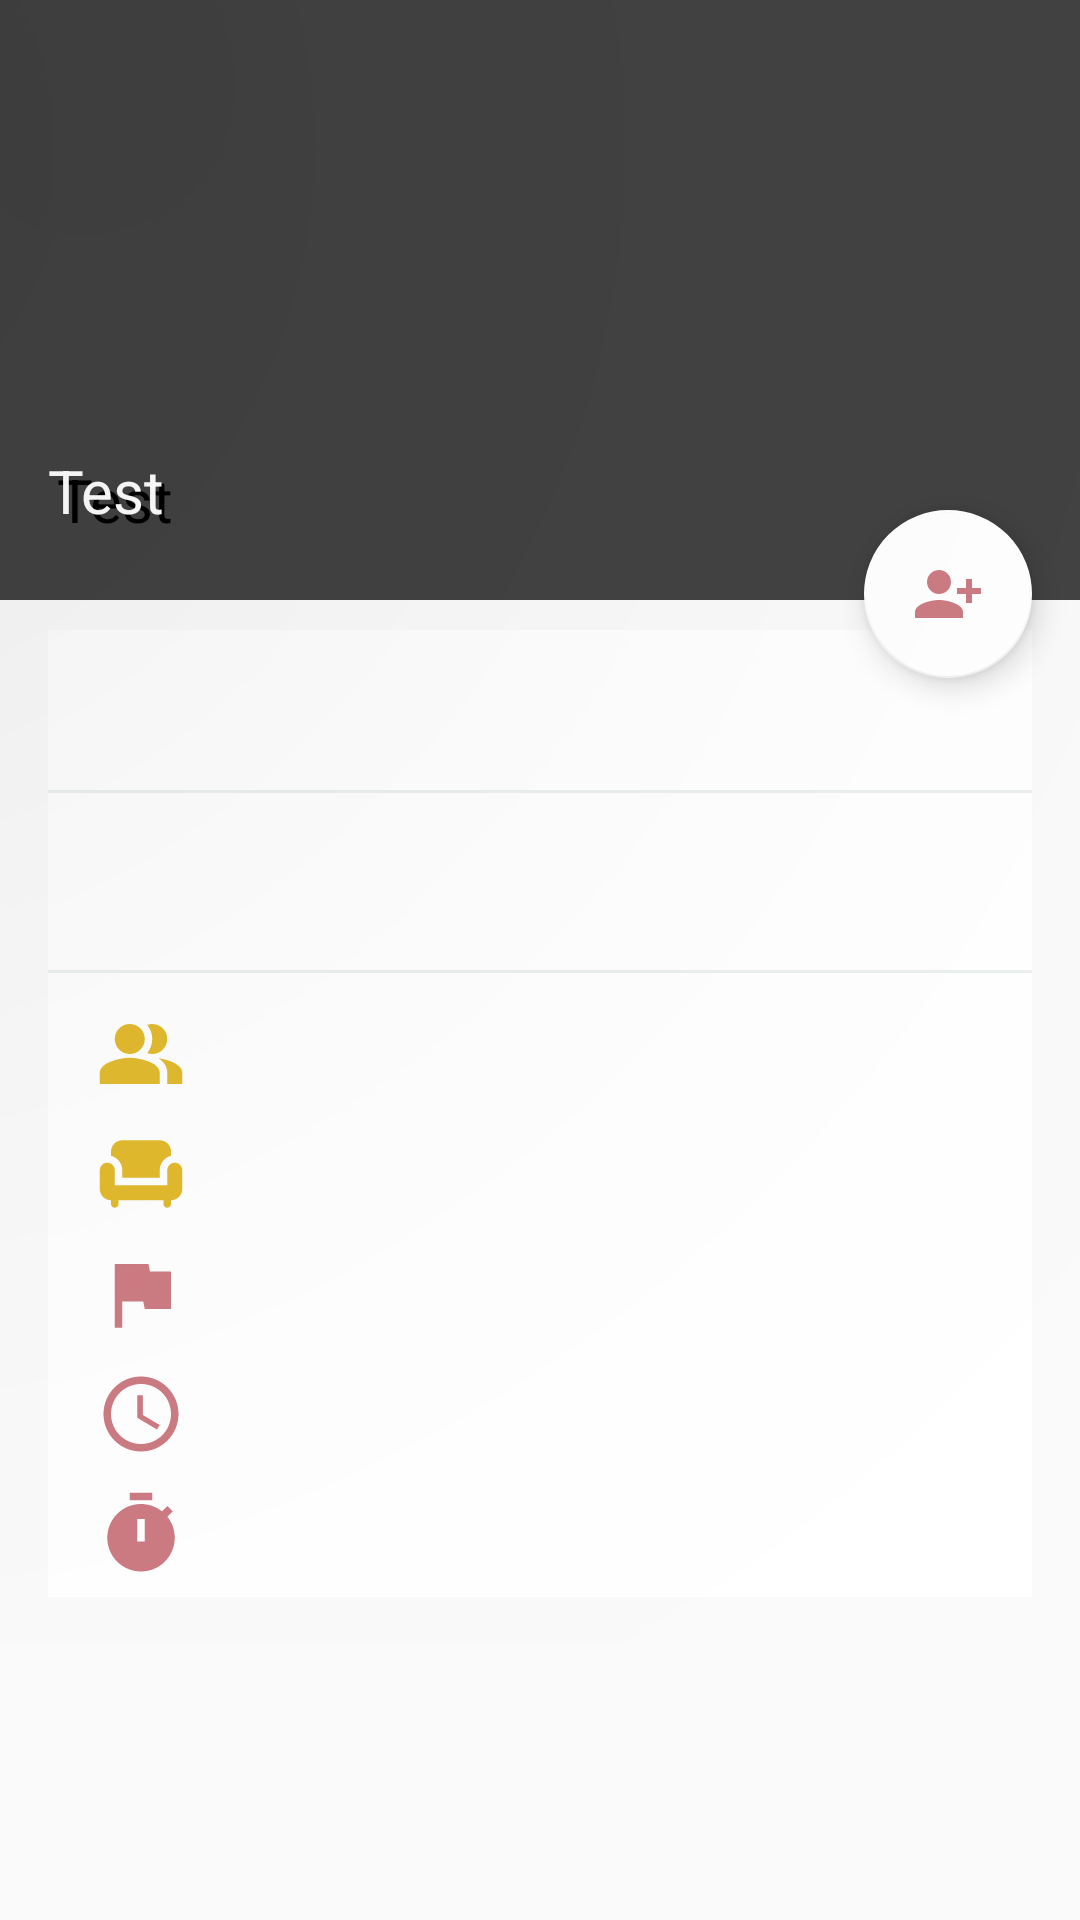

Screen size 1080 x 1920. Icon name, then its center in pixels as [x,y]:
Duration: [141,1532]
Participants: [141,1054]
Seats: [141,1174]
Status: [142,1296]
time: [141,1414]
